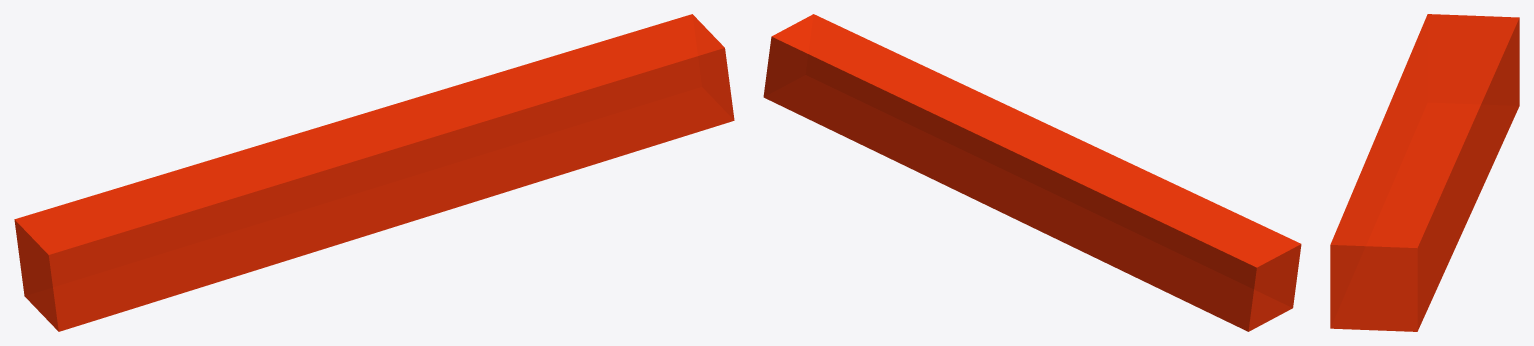
File: Event_421115418_EErechit_61.fbx
The picture shows the model from 3 angles, left to right: view 1: azimuth 30°, elevation 25°; view 2: azimuth 150°, elevation 25°; view 3: azimuth 270°, elevation 25°; orthographic projection. The views are drawn at different scales.
Visible parts, largest first — view 1: Model; view 2: Model; view 3: Model.
Part boxes in pixels (x1,y1,x2,y2): Model: (14, 14, 734, 331); Model: (763, 14, 1301, 331); Model: (1330, 14, 1519, 331).
Size of the model in its own units: 0.6492 by 0.1608 by 0.1563.
